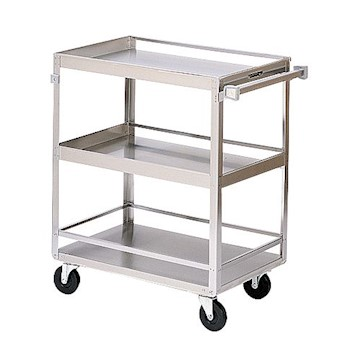Carts: (50, 34, 308, 332)
